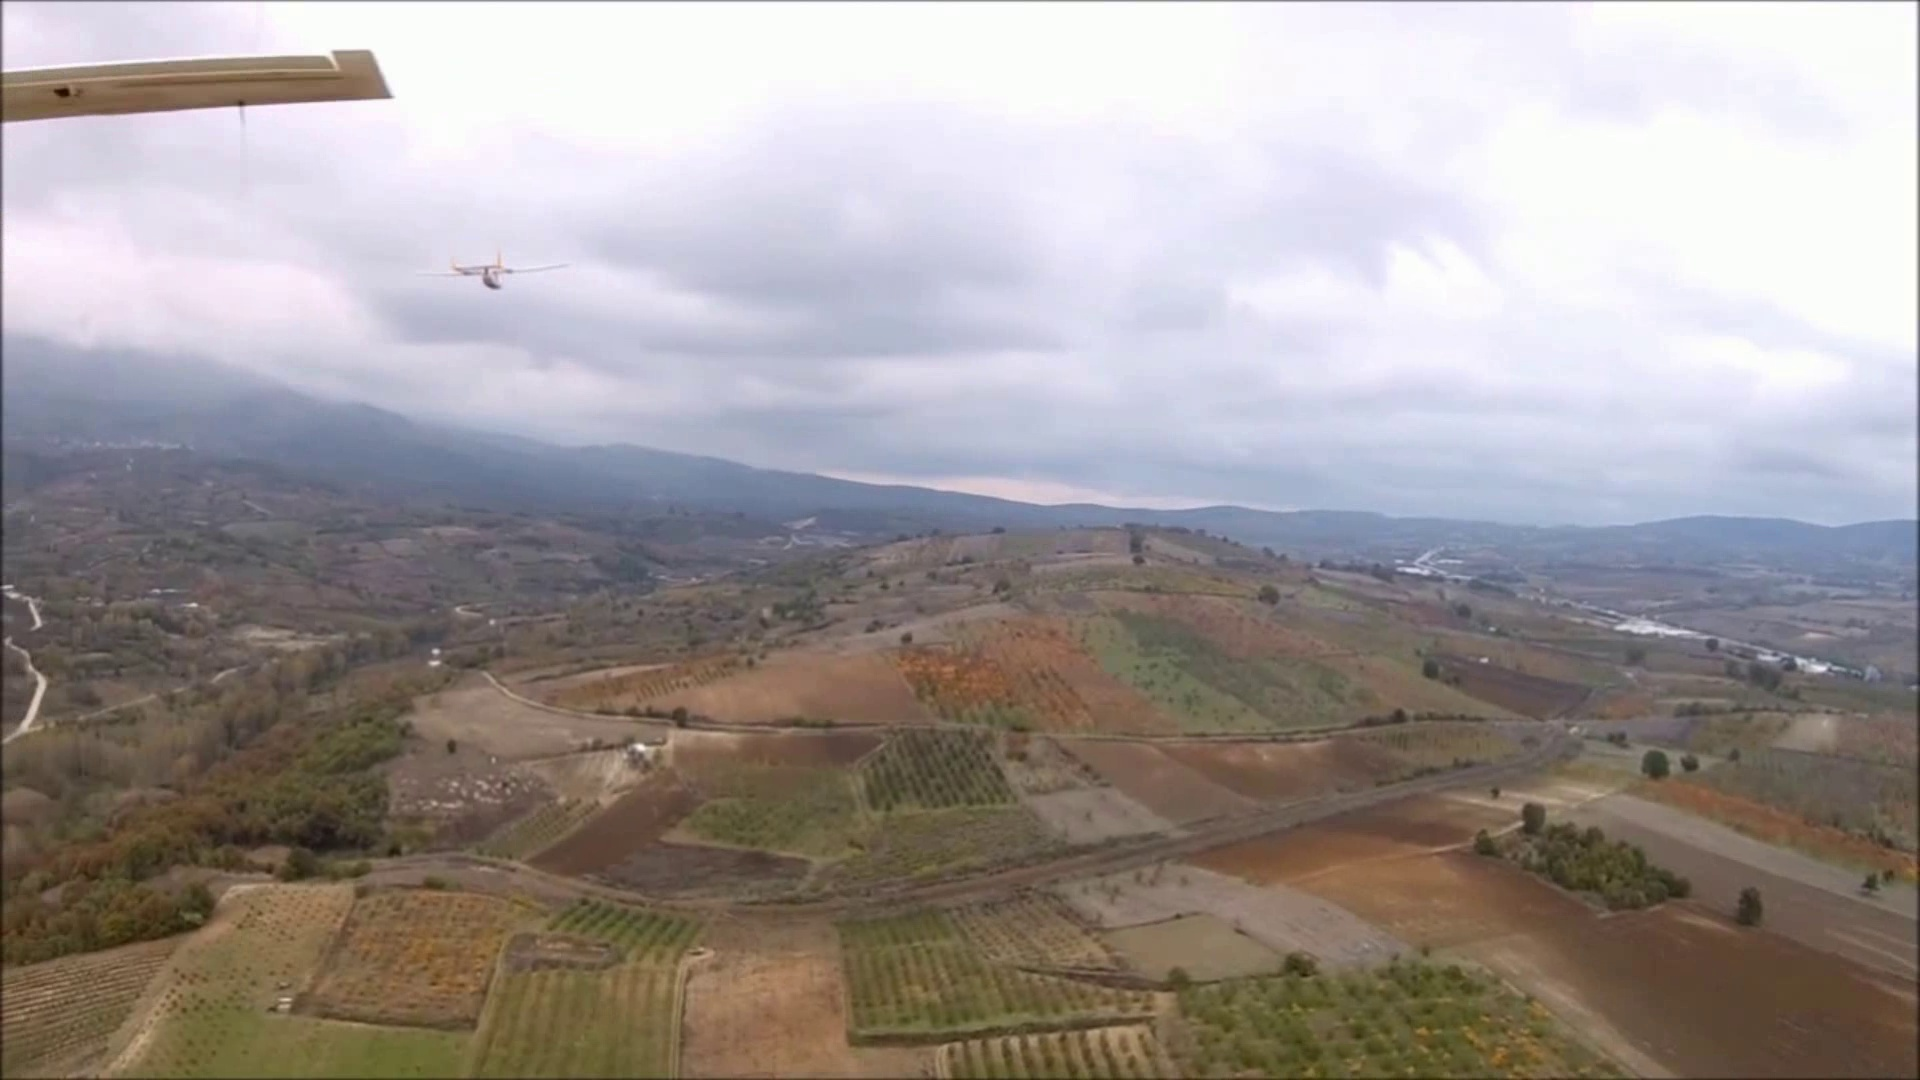airplane: (2, 26, 393, 128), (447, 250, 506, 290)
